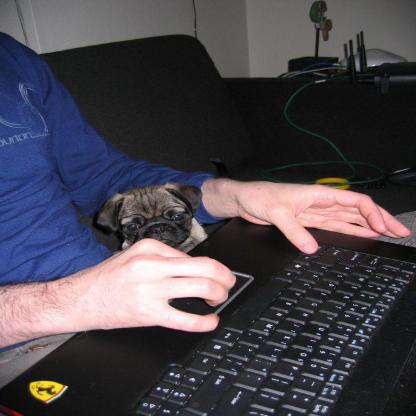board: (0, 215, 415, 415)
